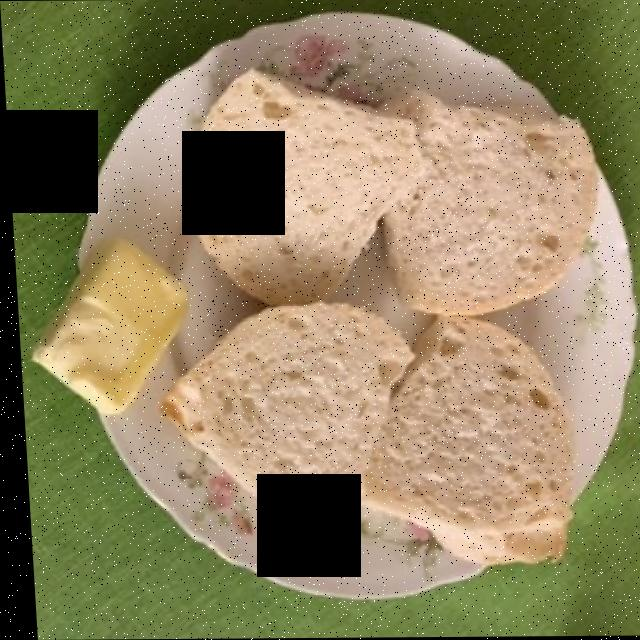bread-white: (171, 90, 604, 553)
butter: (32, 240, 180, 404)
